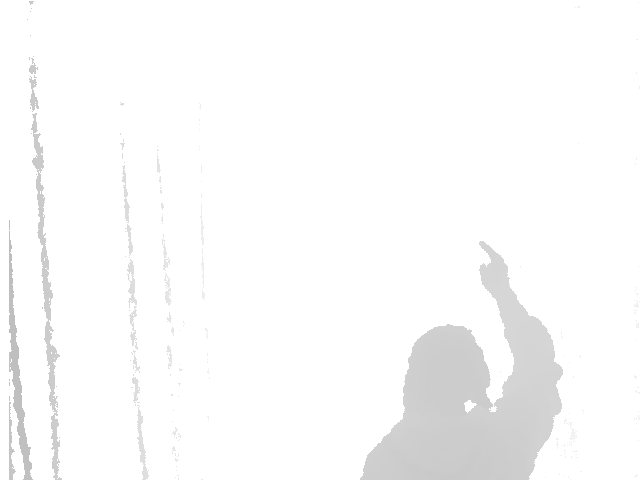hand: (478, 239, 514, 298)
head: (403, 325, 495, 412)
person: (362, 239, 562, 480)
